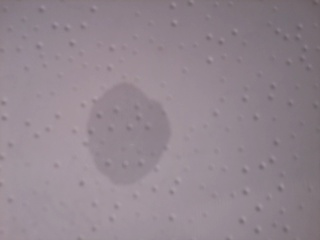Water_detected: (79, 89, 160, 180)
